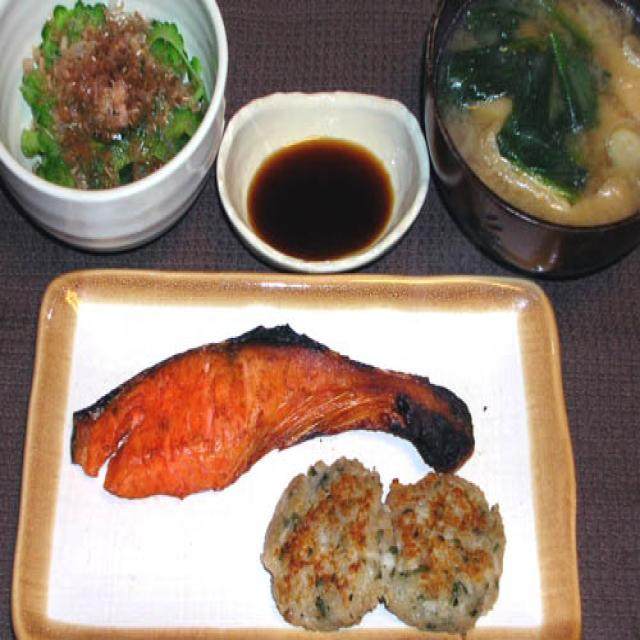熟制海鲜: (55, 287, 489, 490)
